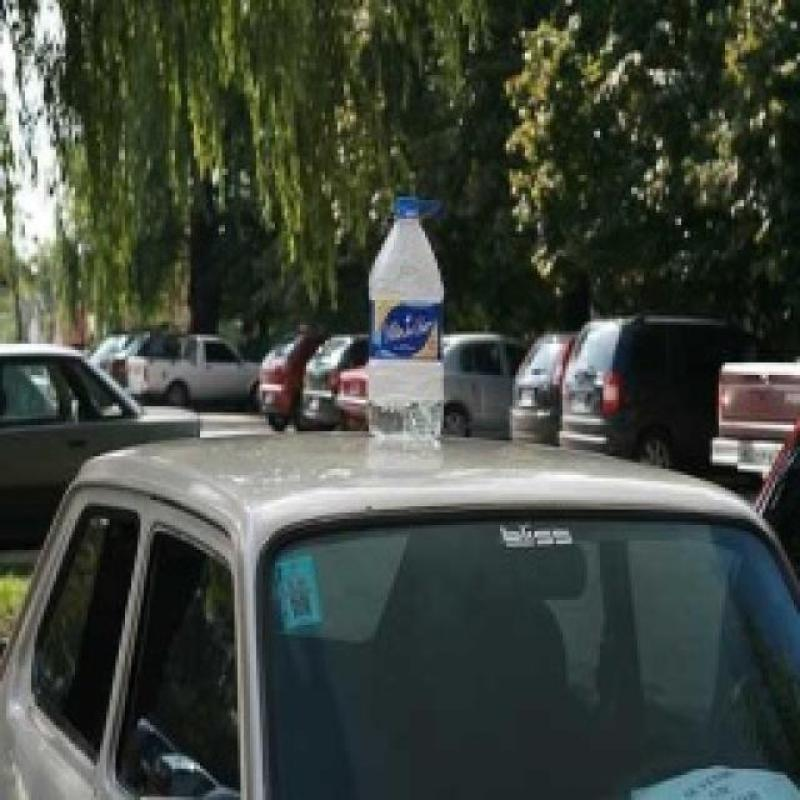botella: (362, 199, 447, 449)
